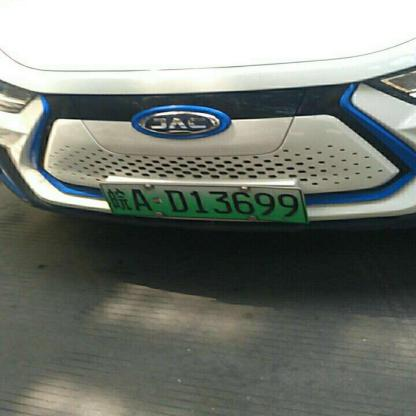lp: (101, 184, 307, 221)
